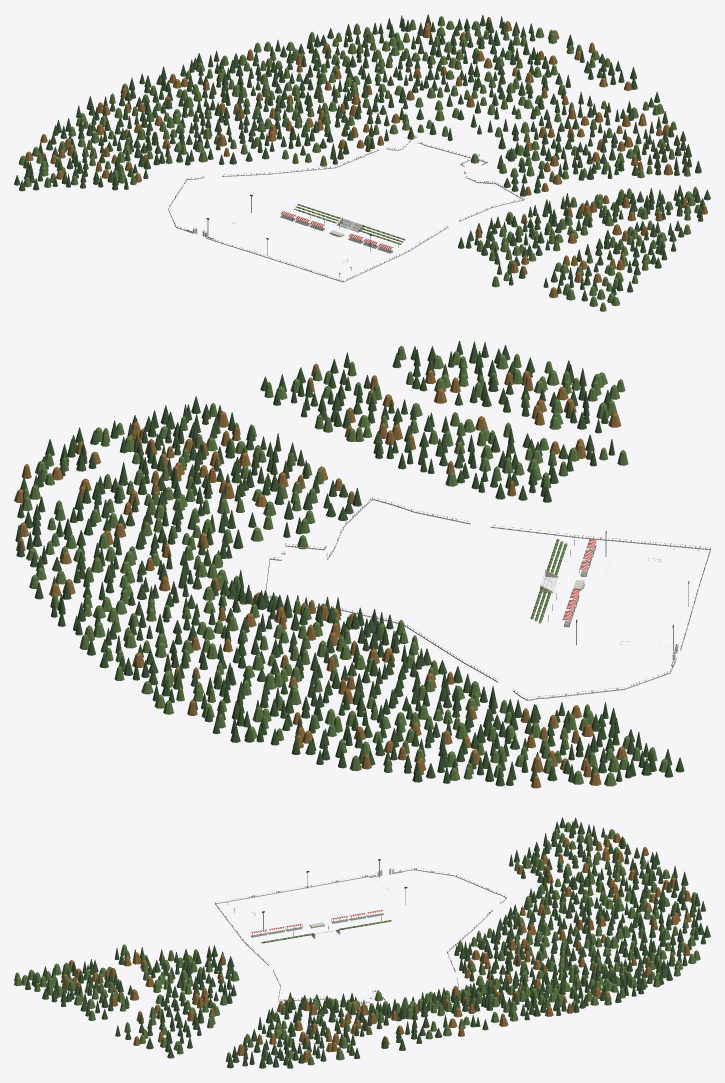
3 views of the same model, one above another, from view 1: azimuth 30°, elevation 25°; view 2: azimuth 150°, elevation 25°; view 3: azimuth 270°, elevation 25° (orthographic). The views are drawn at different scales.
Parts seen in each view (by area): view 1: prop_forest, prop_boundary-fence, prop_hedges; view 2: prop_forest, prop_boundary-fence; view 3: prop_forest, prop_boundary-fence.
Boxes of the visible parts, x1=… form: prop_forest: x1=14, y1=14, x2=710, y2=311; prop_boundary-fence: x1=168, y1=136, x2=524, y2=282; prop_hedges: x1=294, y1=204, x2=405, y2=244; prop_forest: x1=14, y1=340, x2=684, y2=788; prop_boundary-fence: x1=265, y1=497, x2=710, y2=700; prop_forest: x1=14, y1=817, x2=710, y2=1068; prop_boundary-fence: x1=215, y1=868, x2=506, y2=1018.
Bounding box in the file's own units: 533 × 60.5 × 590.
19 materials, 1 textured.
